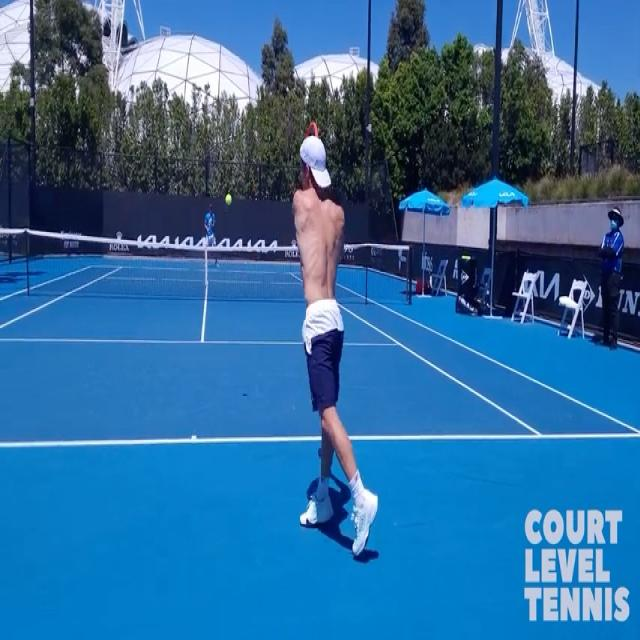backhand-stroke: (289, 115, 379, 558)
